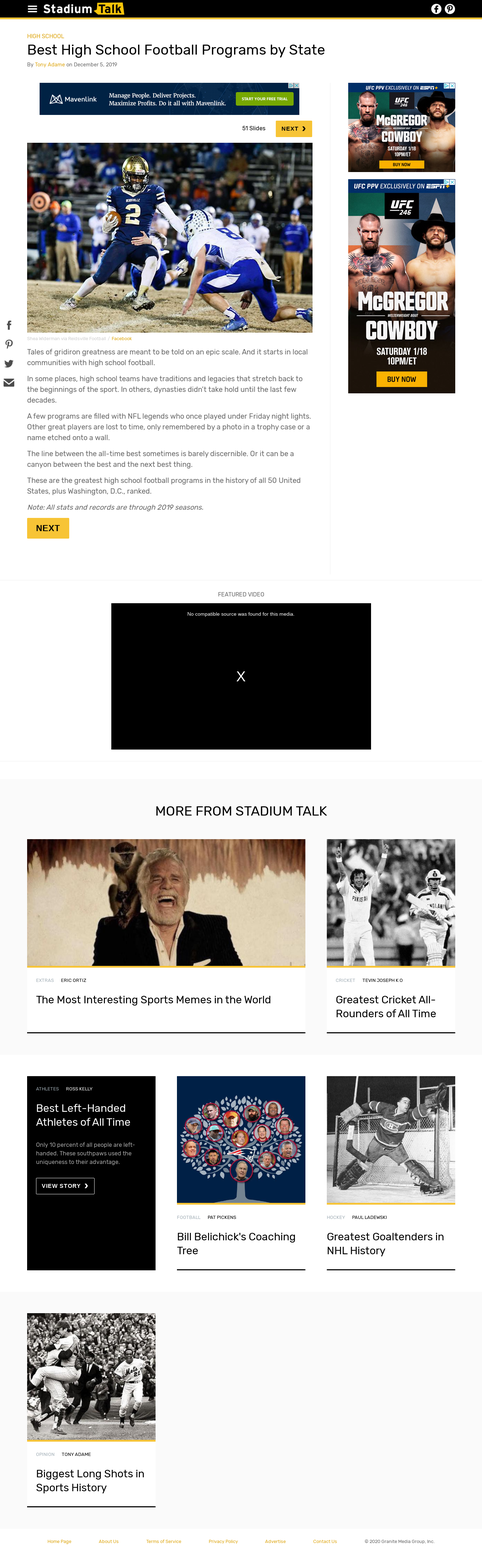fake_button: (269, 116, 324, 142)
